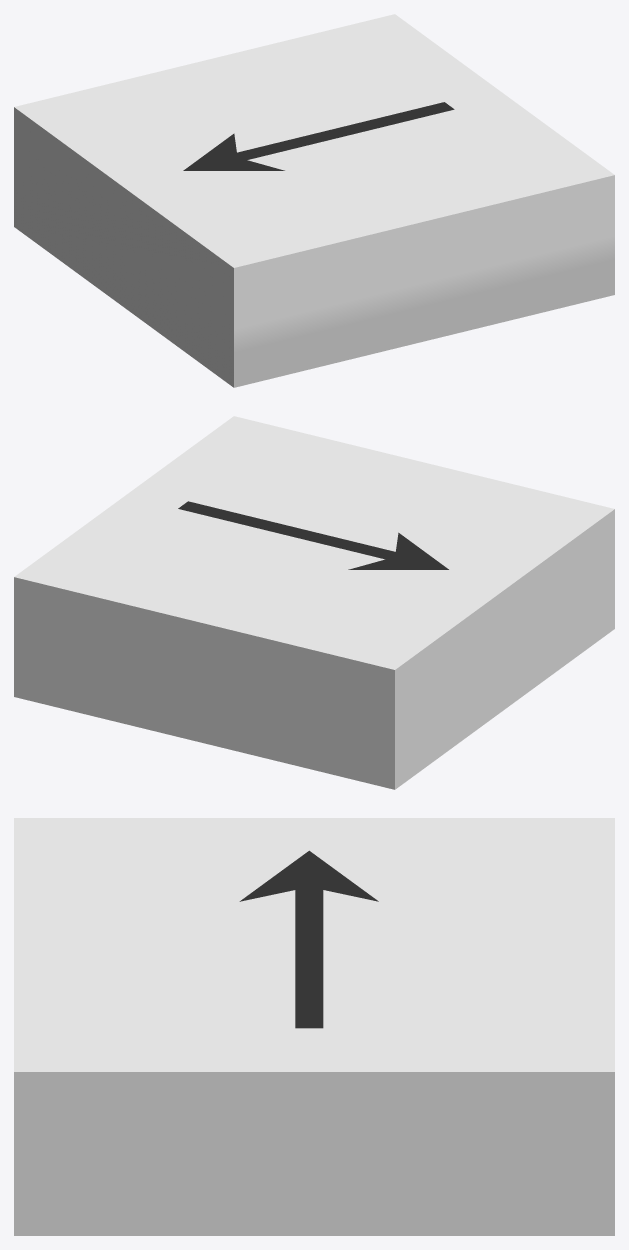
Rendered from BotonLEFT.fbx.
3 views of the same model, one above another, from view 1: azimuth 30°, elevation 25°; view 2: azimuth 150°, elevation 25°; view 3: azimuth 270°, elevation 25° (orthographic). The views are drawn at different scales.
Visible parts, largest first — view 1: Boton_LEFT; view 2: Boton_LEFT; view 3: Boton_LEFT.
Part boxes in pixels (x1,y1,x2,y2): Boton_LEFT: (14,14,614,387); Boton_LEFT: (14,416,614,789); Boton_LEFT: (14,818,614,1235).
Size of the model in its own units: 11.22 by 3.49 by 11.22.
